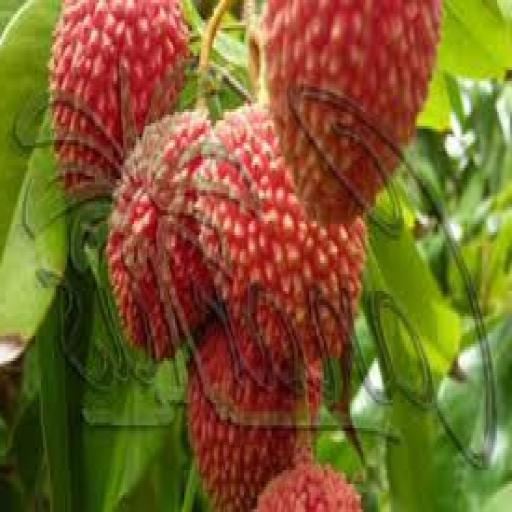lychee: (197, 107, 363, 360), (262, 0, 440, 223), (50, 0, 187, 193), (106, 112, 211, 358), (188, 322, 319, 511), (256, 462, 360, 511)
